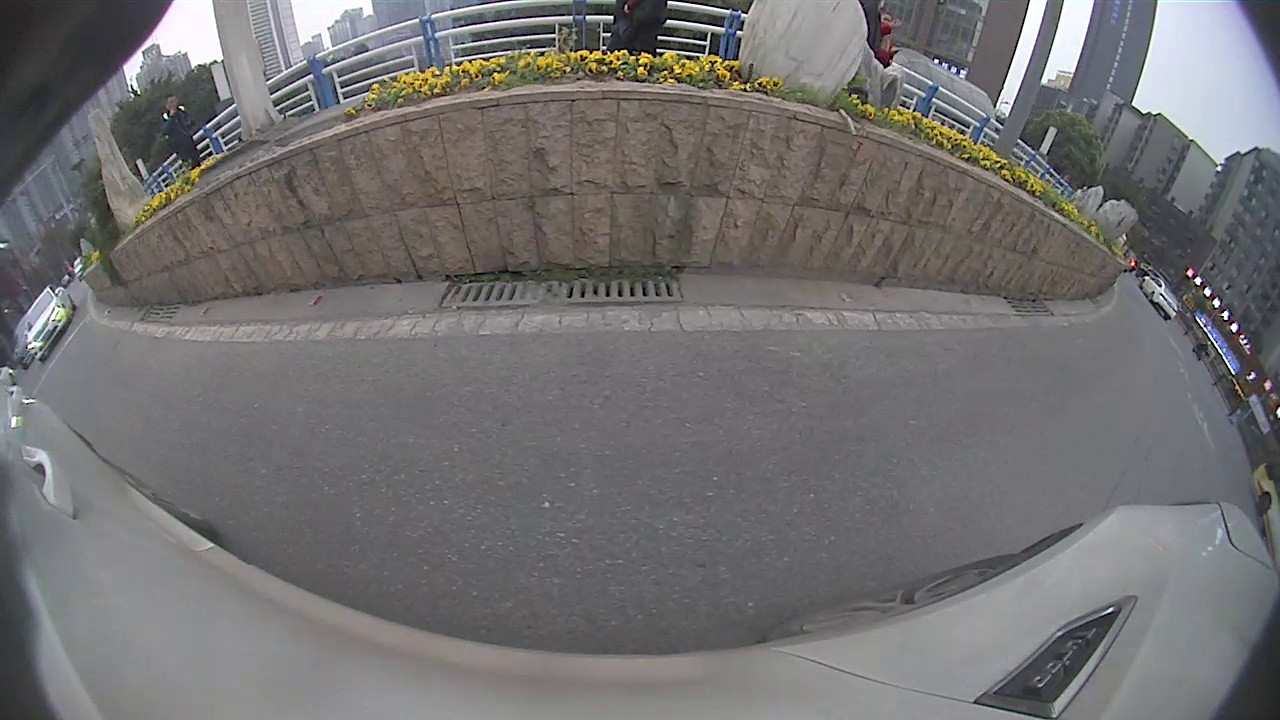car: (24, 285, 76, 364)
person: (162, 93, 199, 172)
